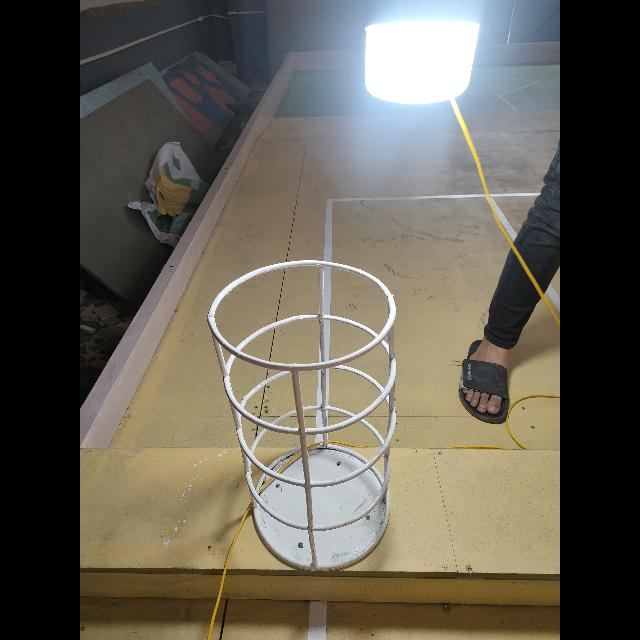S: (201, 259, 404, 578)
